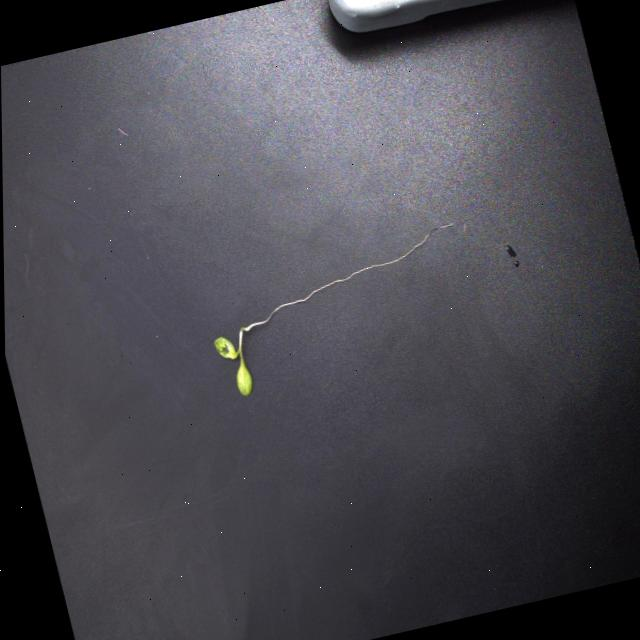leaf: (211, 334, 238, 362)
root: (245, 221, 453, 334)
steb: (233, 325, 249, 366)
